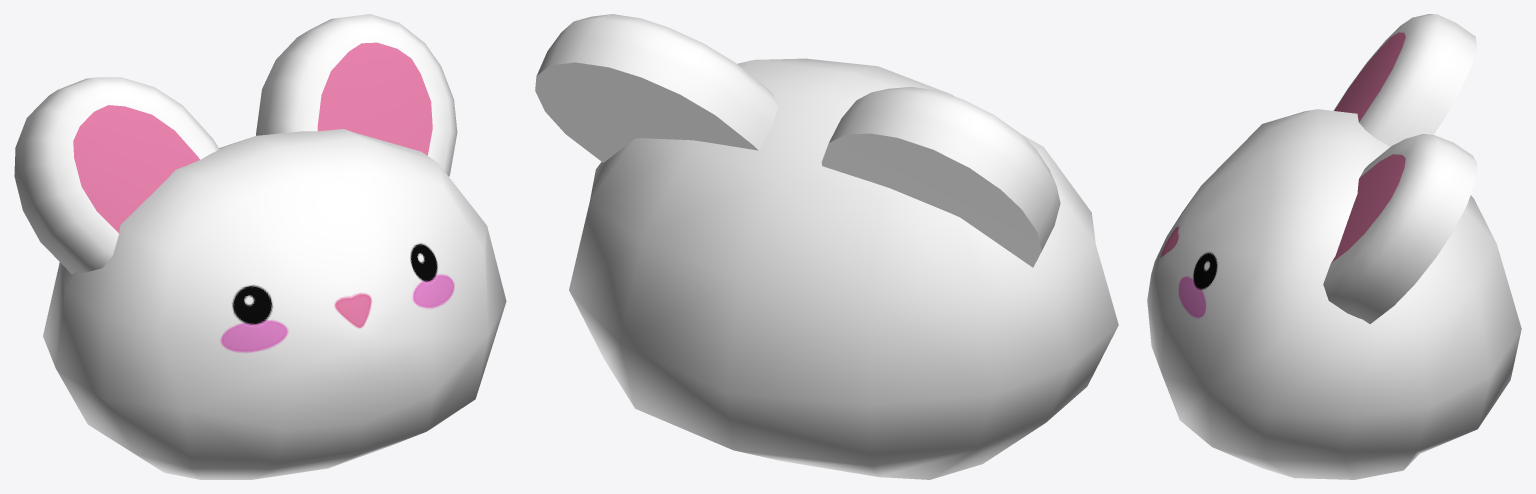
Rendered from Candy_RabbitHead-B.FBX.
The picture shows the model from 3 angles, left to right: view 1: azimuth 30°, elevation 25°; view 2: azimuth 150°, elevation 25°; view 3: azimuth 270°, elevation 25°; orthographic projection. The views are drawn at different scales.
Parts seen in each view (by area): view 1: Candy_RabbitHead-B; view 2: Candy_RabbitHead-B; view 3: Candy_RabbitHead-B.
Boxes of the visible parts, bbox=[...] form: Candy_RabbitHead-B: bbox=[14, 14, 506, 479]; Candy_RabbitHead-B: bbox=[535, 14, 1118, 479]; Candy_RabbitHead-B: bbox=[1147, 14, 1521, 479].
Size of the model in its own units: 3031 by 2370 by 2411.
1 material, 1 textured.
